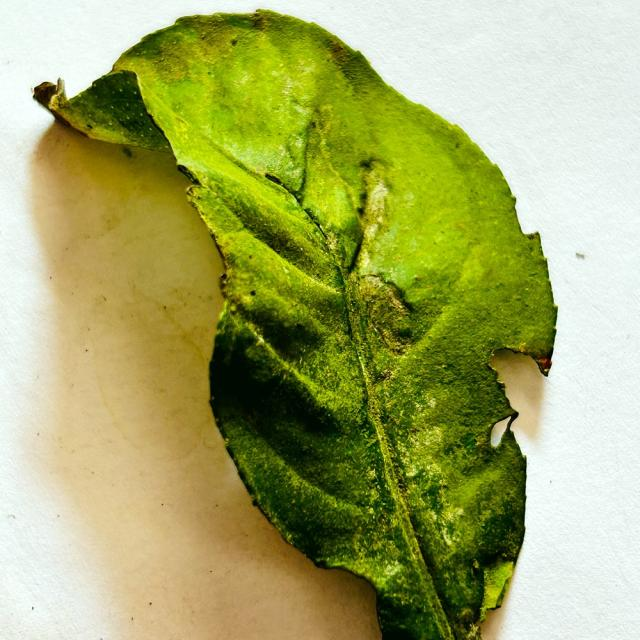Deficiency Leaf: (33, 118, 223, 417), (489, 341, 554, 448)
Lemon: (72, 10, 556, 639)
